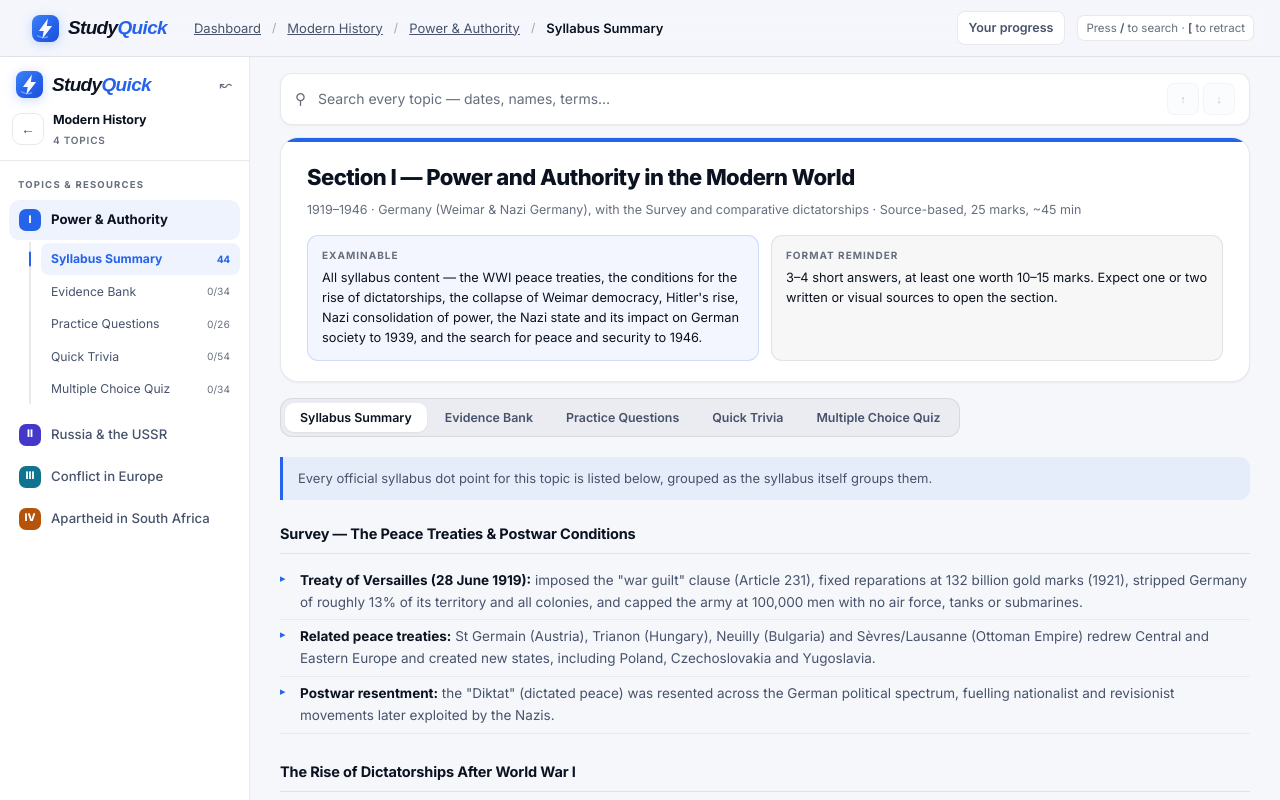
search › jumps to a different tab when the query only matches there, and marks the current hit
Type "spanish civil war" into the field with placeholder "Search every topic — dates, names, terms…" at (732, 99), box x1=316 y1=87 x2=1147 y2=111
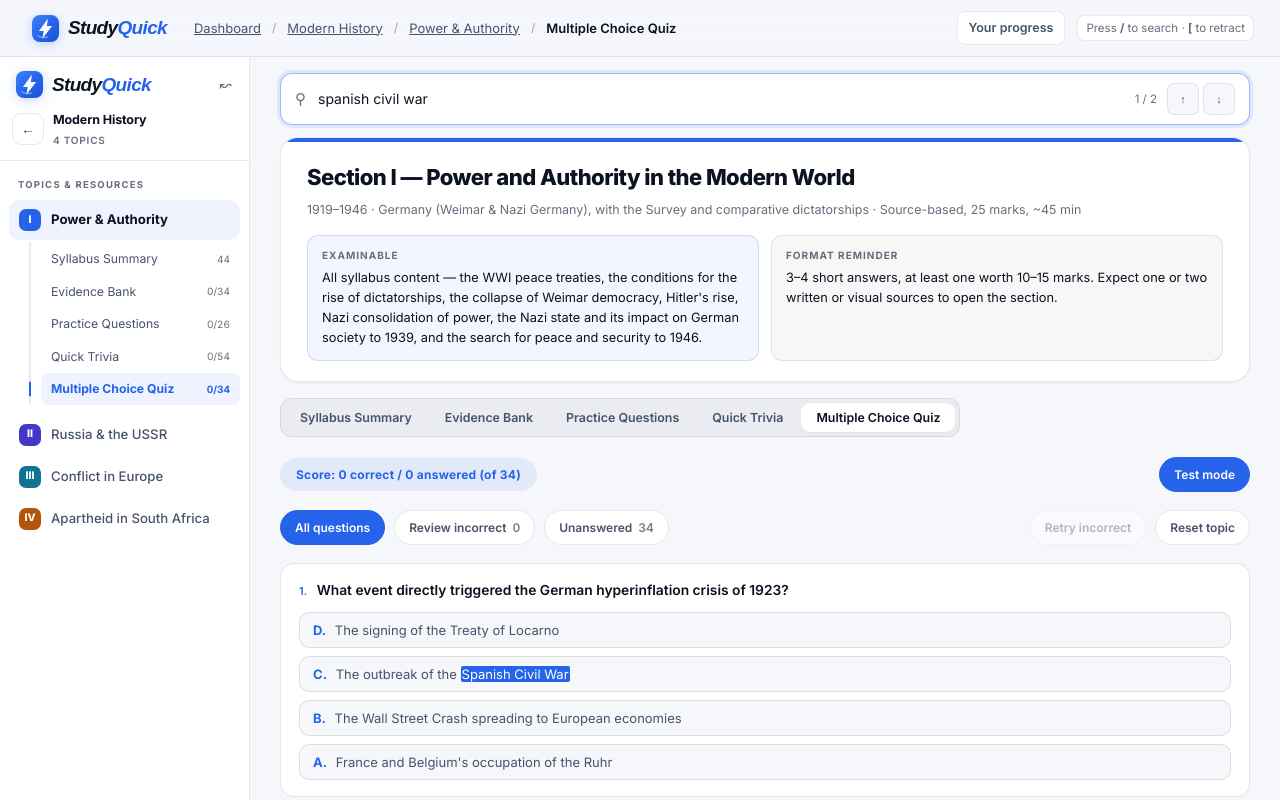
expect the button with class "subtab-btn" below "Format reminder" reads "Multiple Choice Quiz": met, box x1=801 y1=403 x2=956 y2=432
expect the text "Spanish Civil War" is shown: met, box x1=460 y1=666 x2=570 y2=682
